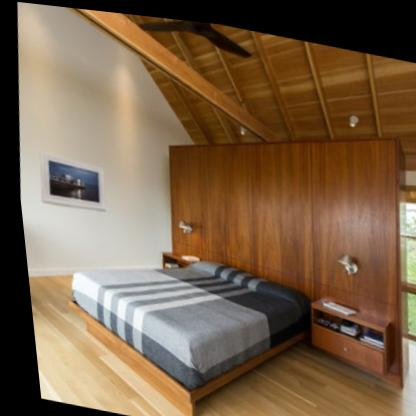Bed: (58, 230, 311, 411)
Wall Panel: (166, 132, 394, 311)
Wooden floor: (23, 274, 185, 416), (186, 337, 416, 416)
